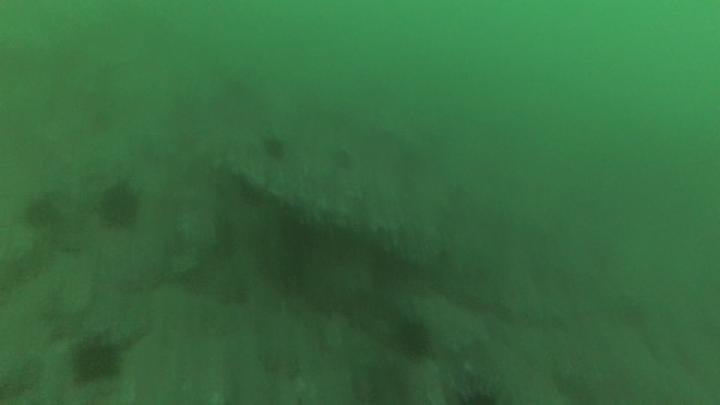echinus: (69, 337, 123, 385), (96, 181, 143, 231), (392, 316, 434, 360), (22, 193, 66, 231), (260, 133, 289, 162)
